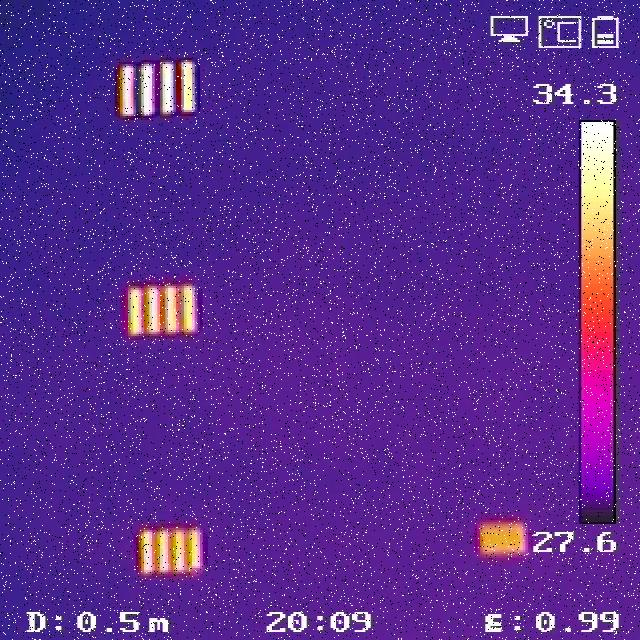Distinguishable 4-bar target: (119, 62, 201, 115), (124, 285, 201, 335), (137, 528, 208, 573)
Indistinguishable 4-bar target: (481, 520, 527, 556)
